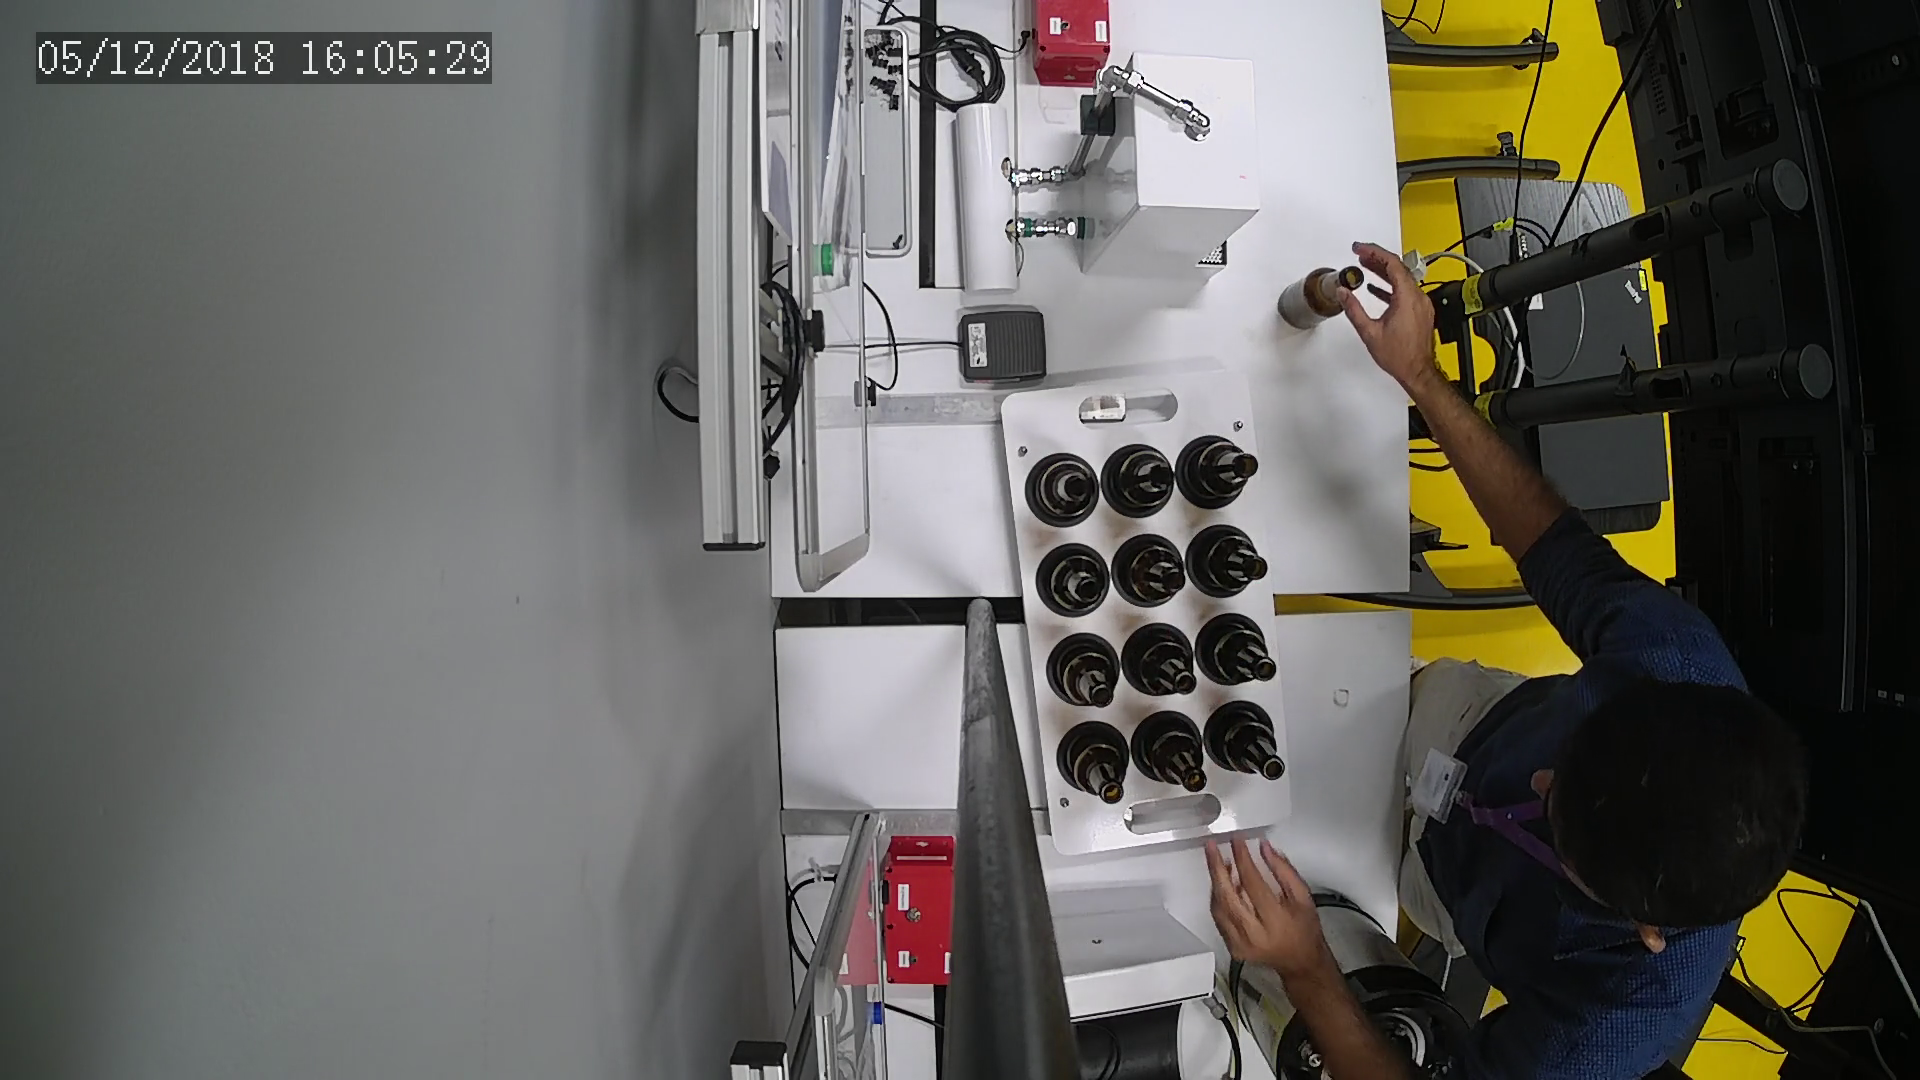filled_bottle: (1207, 695, 1295, 789), (1127, 707, 1215, 800), (1036, 630, 1129, 715), (1191, 609, 1284, 691), (1054, 720, 1135, 814), (1187, 516, 1269, 603), (1122, 616, 1203, 703), (1179, 429, 1265, 509), (1018, 455, 1108, 530), (1036, 543, 1112, 628), (1110, 534, 1189, 613), (1108, 440, 1174, 526)
trolley: (996, 365, 1302, 865)
unfilled_bottle: (1269, 266, 1374, 332)
